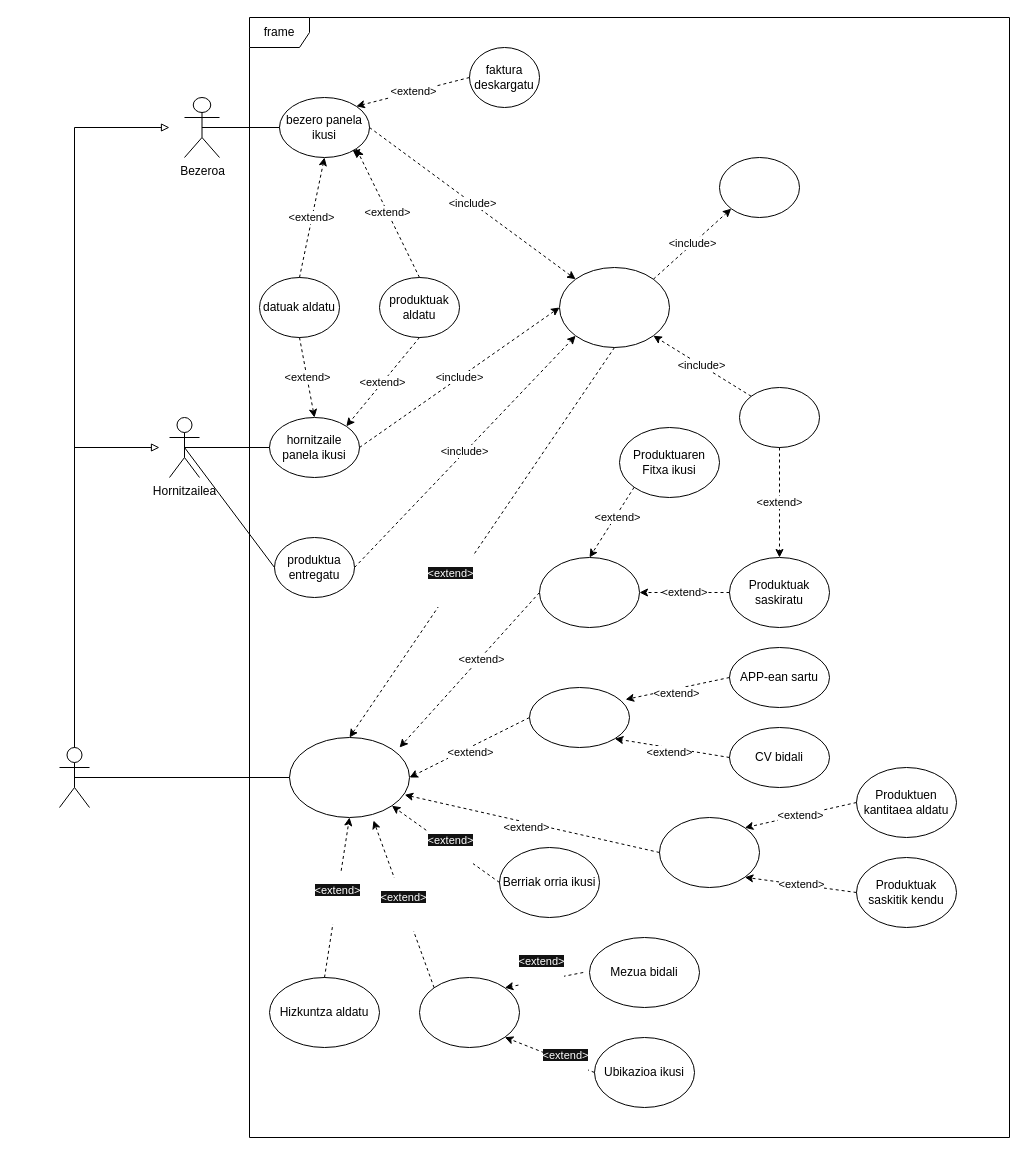
The diagram is 1027 pixels wide and 1155 high, and some of its shapes have lost their labels. The shapes that lost their labels are listed below. From the top down, each one's box as (x1, y1, x2, y2) in pixels, then its label:
(718, 156, 800, 218): Erregistratu
(558, 266, 670, 348): Bezero/Hornitzaile Saioa Hasi
(738, 386, 820, 448): produktua erosi
(538, 556, 640, 628): Produktuak ikusi
(528, 686, 630, 748): Langileen Orria Ikusi
(58, 746, 90, 808): Erabiltzaile generikoa
(288, 736, 410, 818): Web-orrian nabigatu
(658, 816, 760, 888): Saskia ikusi
(418, 976, 520, 1048): Kontaktua Orria ikusi
